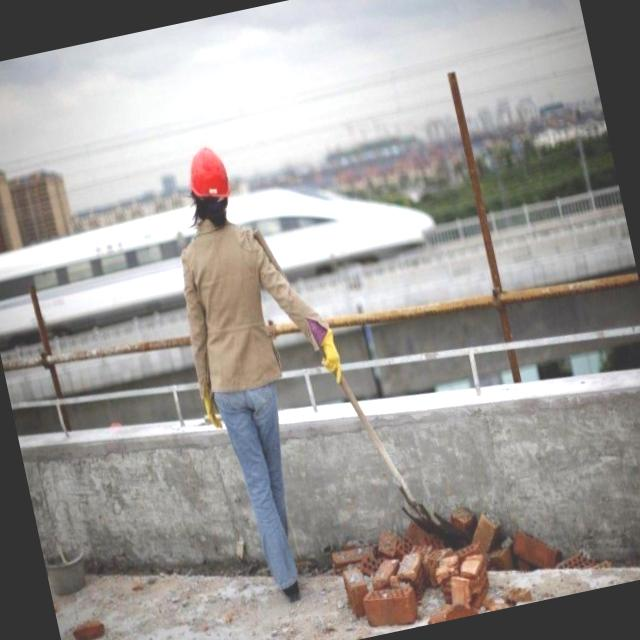helmet: (171, 136, 233, 212)
no-vest: (174, 212, 302, 405)
